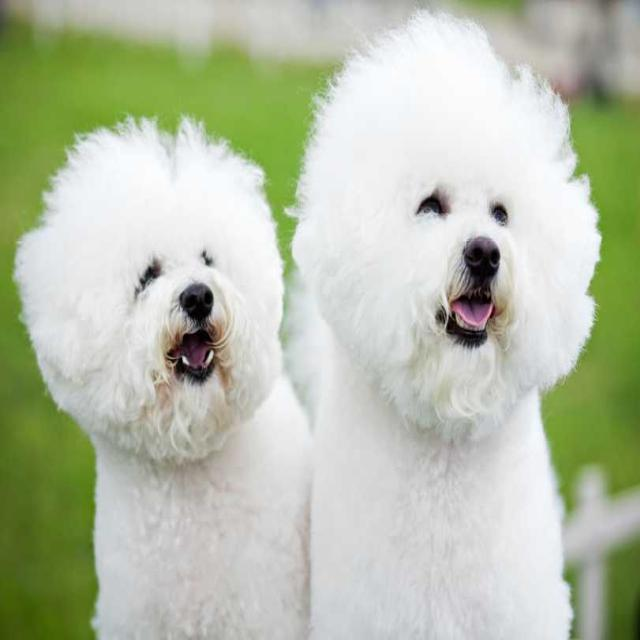dog: (286, 22, 624, 460), (10, 62, 304, 490)
